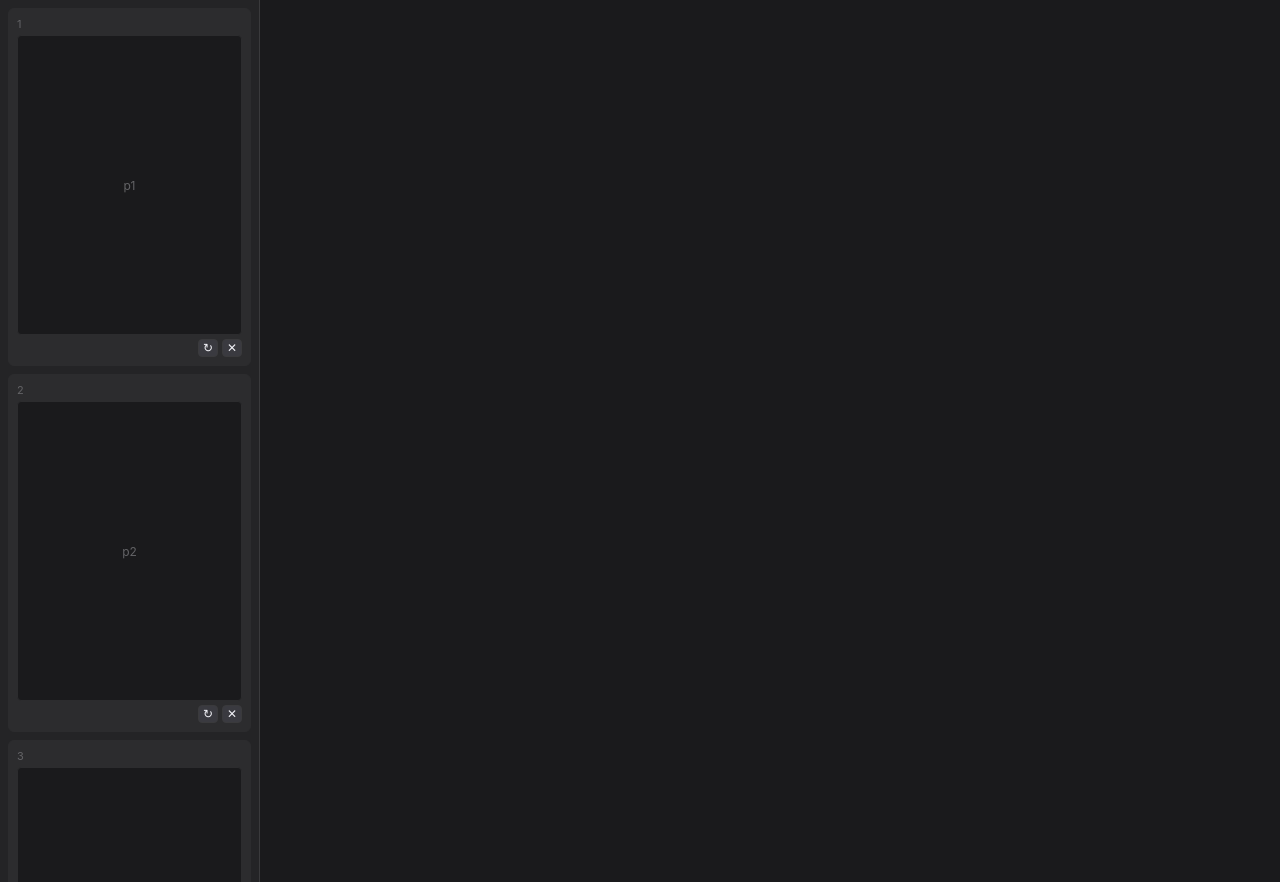
Scenario: ThumbnailPanel › selection (PR-C, 2026-09-15) › a delete clears the selection (indices have shifted)
What coordinates should you click on to do the following:
click the list item named "Page 2"
I would click on:
 (130, 553)
Its box is [8, 374, 251, 732].
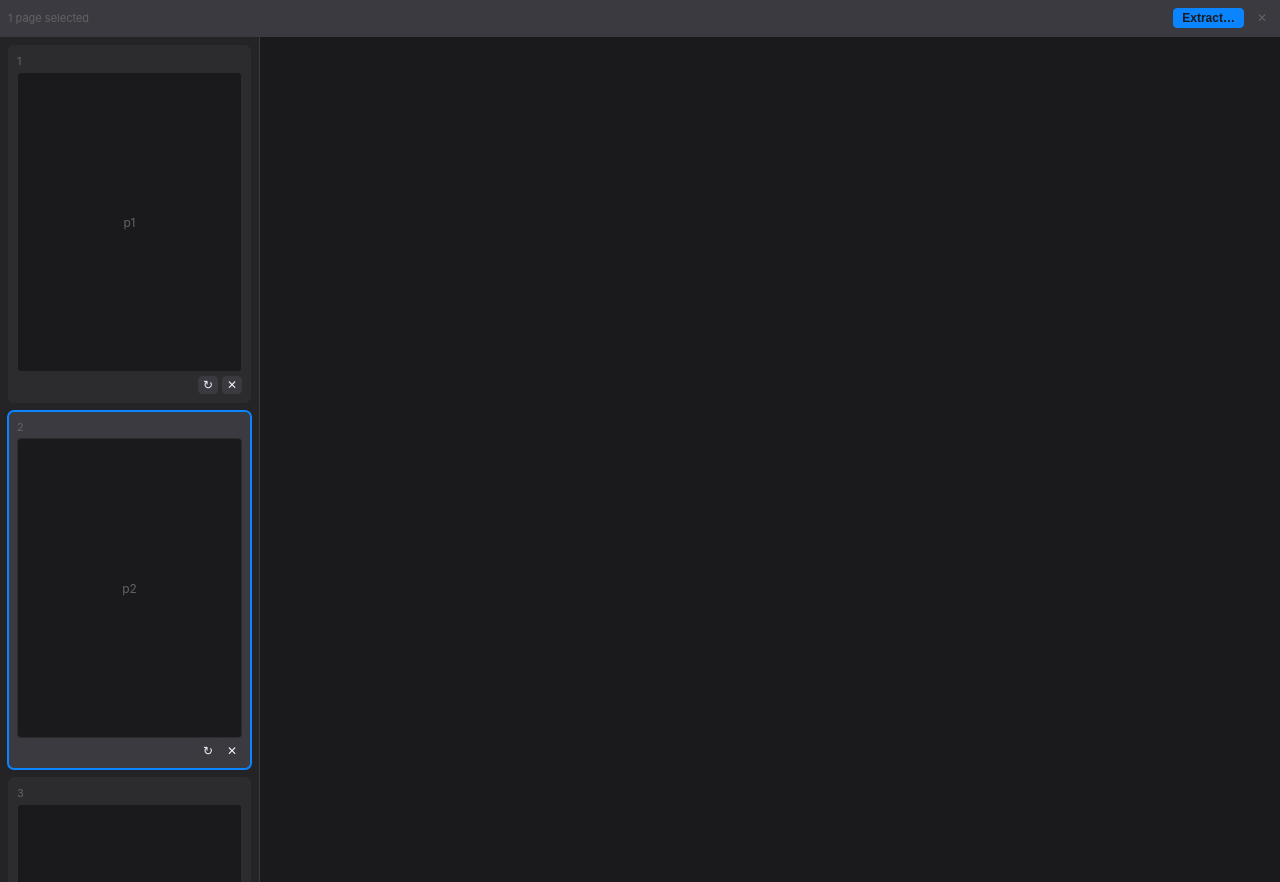
Result: the text "1 page selected" is shown at [8, 11, 89, 25]
What coordinates should you click on to do the following:
click the button named "Delete page 1"
I would click on:
 (232, 385)
Its box is [222, 376, 242, 394].
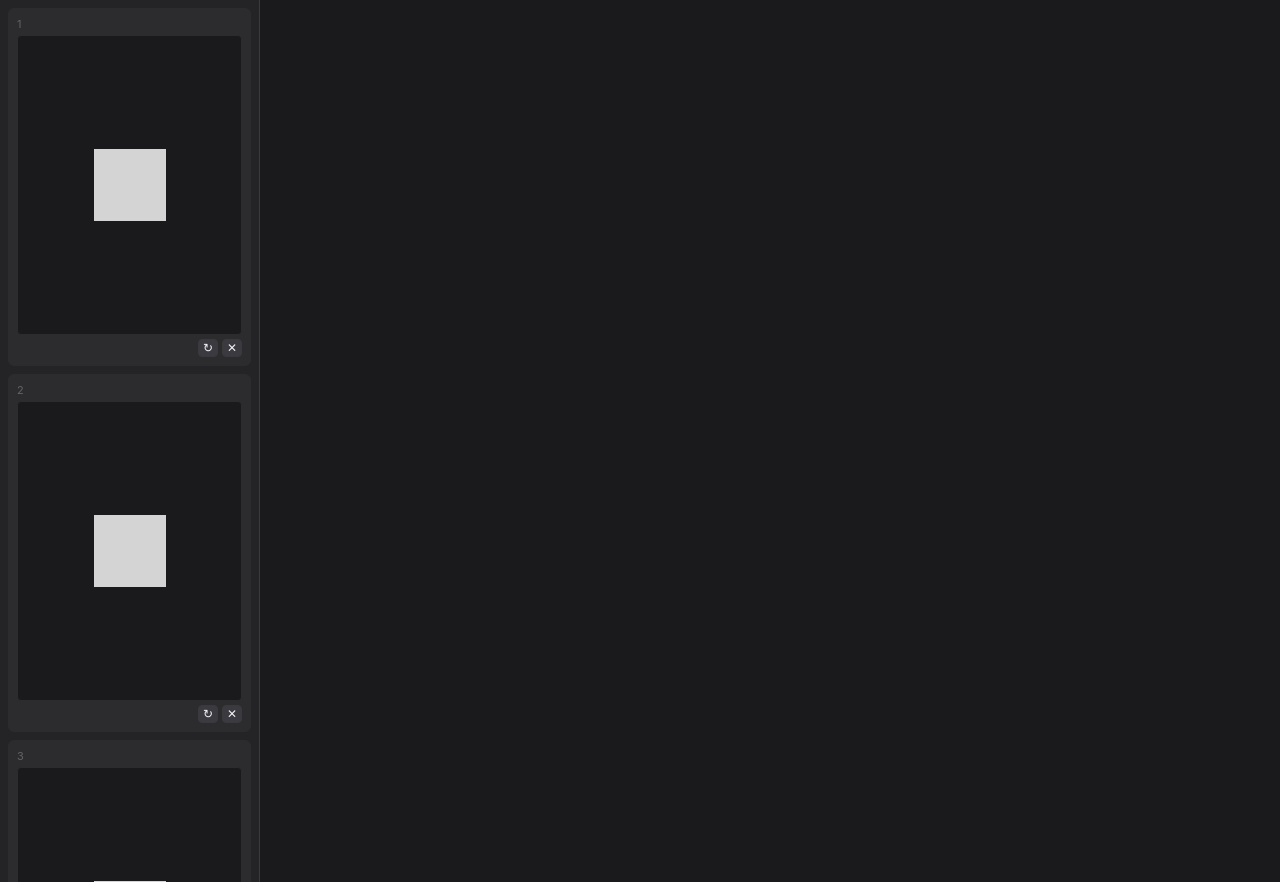
Result: the text "selected" is gone
